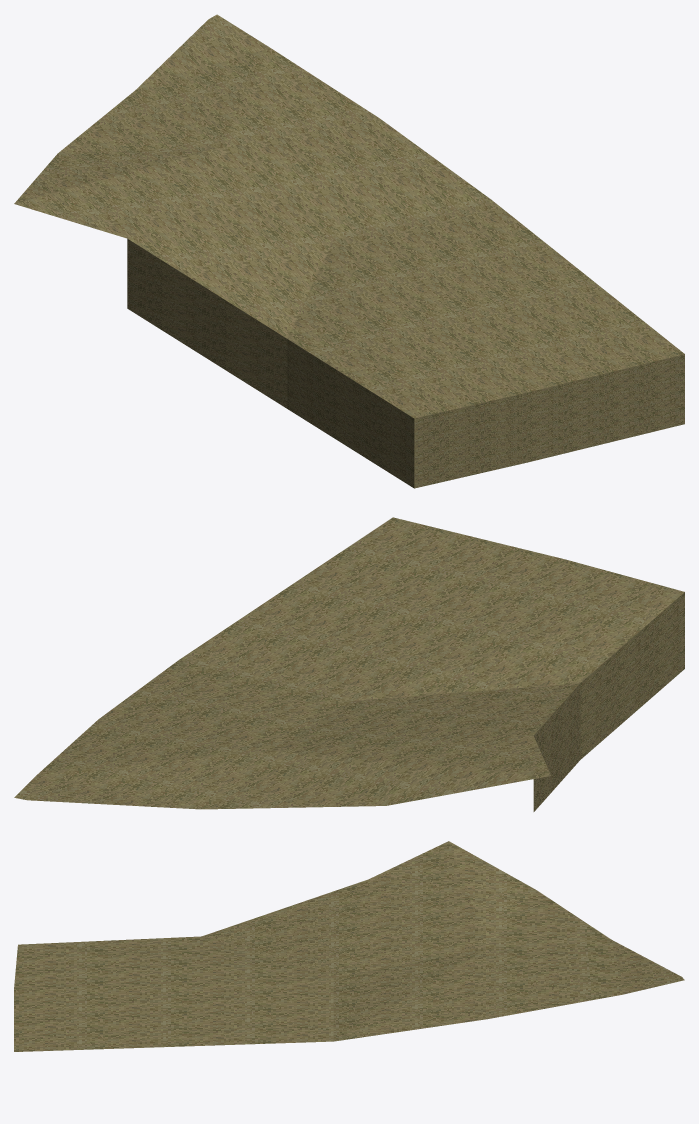
The model's file is lodd_sfn20.obj.
3 renders of one model, top to bottom at view 1: azimuth 30°, elevation 25°; view 2: azimuth 150°, elevation 25°; view 3: azimuth 270°, elevation 25°, orthographic. The views are drawn at different scales.
Parts seen in each view (by area): view 1: LODd_sfn20; view 2: LODd_sfn20; view 3: LODd_sfn20.
Boxes of the visible parts, x1=… form: LODd_sfn20: x1=14, y1=14, x2=684, y2=488; LODd_sfn20: x1=14, y1=517, x2=684, y2=811; LODd_sfn20: x1=14, y1=841, x2=684, y2=1051.
Size of the model in its own units: 48.59 by 14.57 by 83.93.
Materials: 1 (1 with a texture image).
